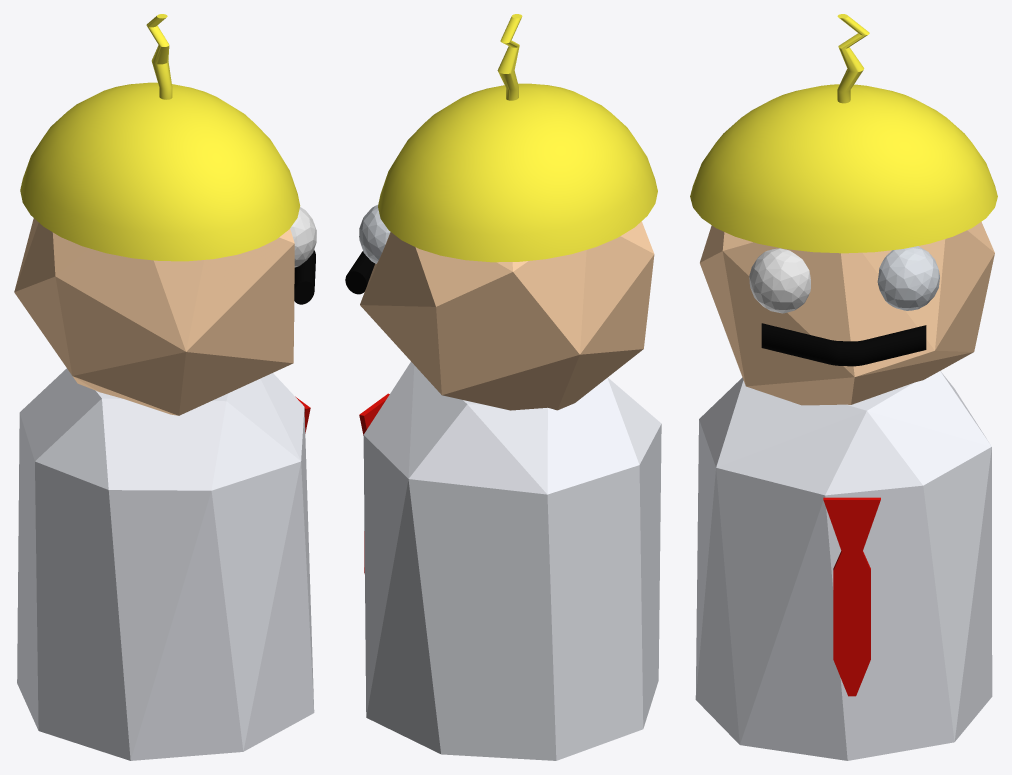
Rendered from fedya.fbx.
3 views of the same model, side by side, from view 1: azimuth 30°, elevation 25°; view 2: azimuth 150°, elevation 25°; view 3: azimuth 270°, elevation 25° (orthographic).
Parts seen in each view (by area): view 1: Cylinder, Sphere.003, Sphere, Cylinder.002, Sphere.001, Cylinder.001; view 2: Cylinder, Sphere.003, Sphere, Cylinder.002, Sphere.002, Cylinder.001; view 3: Cylinder, Sphere.003, Sphere, Plane, Cylinder.001, Sphere.002, Sphere.001, Cylinder.002.
Boxes of the visible parts, bbox=[...] form: Cylinder: bbox=[17, 368, 314, 760]; Sphere.003: bbox=[20, 82, 300, 261]; Sphere: bbox=[14, 218, 294, 415]; Cylinder.002: bbox=[146, 14, 172, 99]; Sphere.001: bbox=[290, 207, 316, 267]; Cylinder.001: bbox=[294, 250, 315, 304]; Cylinder: bbox=[363, 362, 661, 760]; Sphere.003: bbox=[378, 83, 657, 262]; Sphere: bbox=[360, 221, 654, 410]; Cylinder.002: bbox=[497, 14, 522, 100]; Sphere.002: bbox=[359, 205, 390, 263]; Cylinder.001: bbox=[345, 251, 374, 294]; Cylinder: bbox=[695, 371, 992, 760]; Sphere.003: bbox=[690, 84, 997, 253]; Sphere: bbox=[700, 222, 994, 405]; Plane: bbox=[823, 497, 880, 696]; Cylinder.001: bbox=[761, 323, 926, 366]; Sphere.002: bbox=[877, 246, 939, 310]; Sphere.001: bbox=[749, 248, 810, 313]; Cylinder.002: bbox=[837, 14, 869, 103].
Size of the model in its own units: 215 by 512 by 210.
